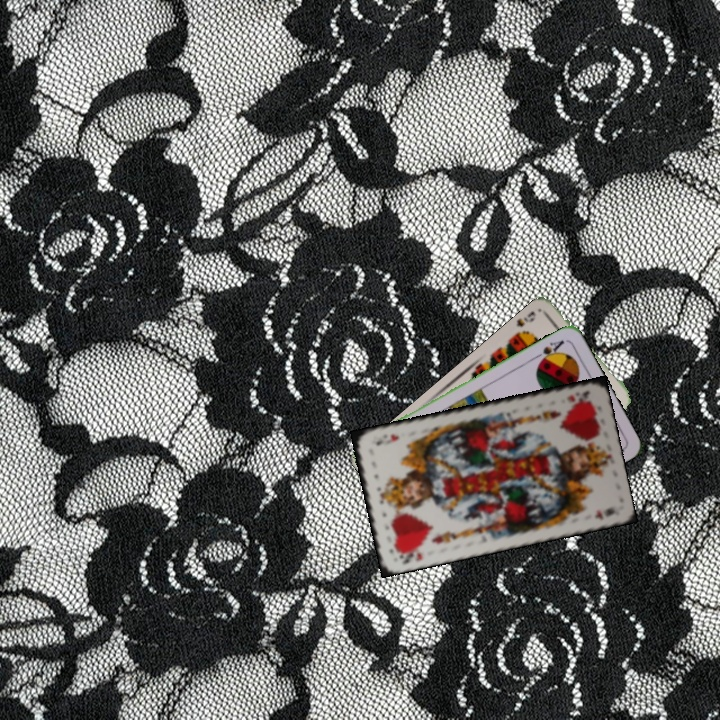HK: (392, 544, 425, 567), (562, 387, 593, 407)
S9: (510, 307, 538, 340)
SA: (530, 336, 567, 366)
